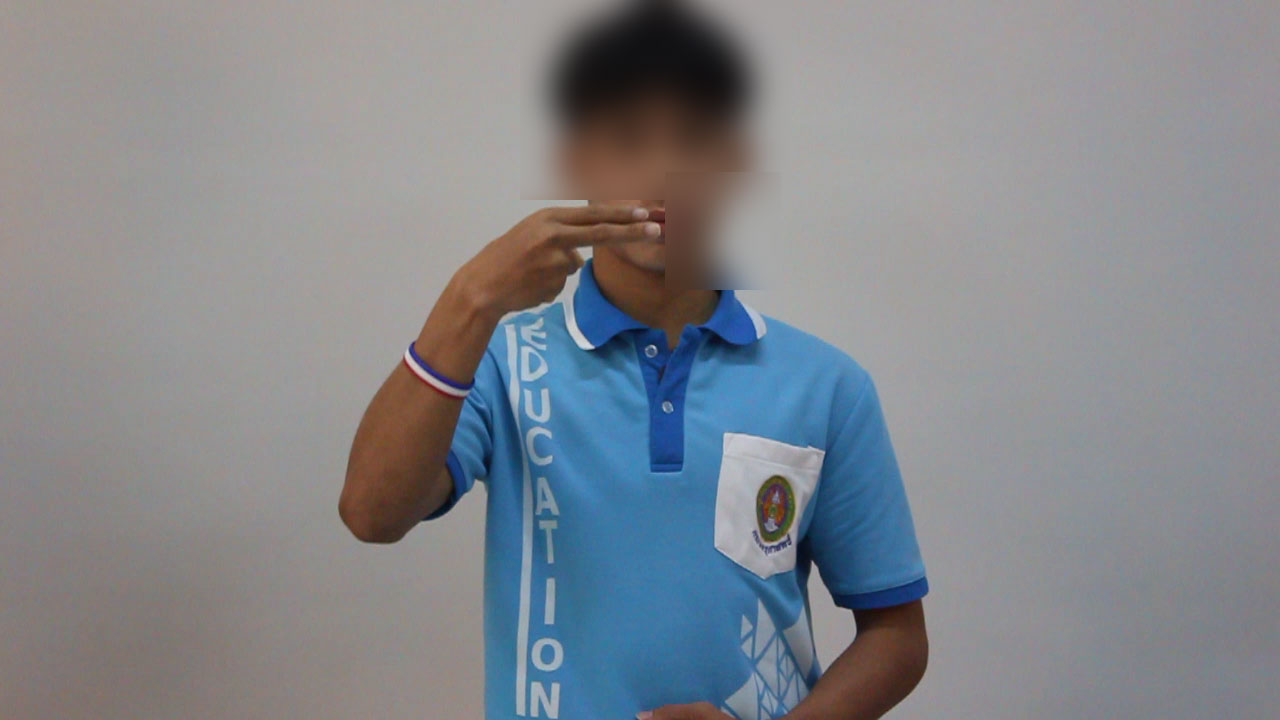hor: (449, 197, 676, 325)
